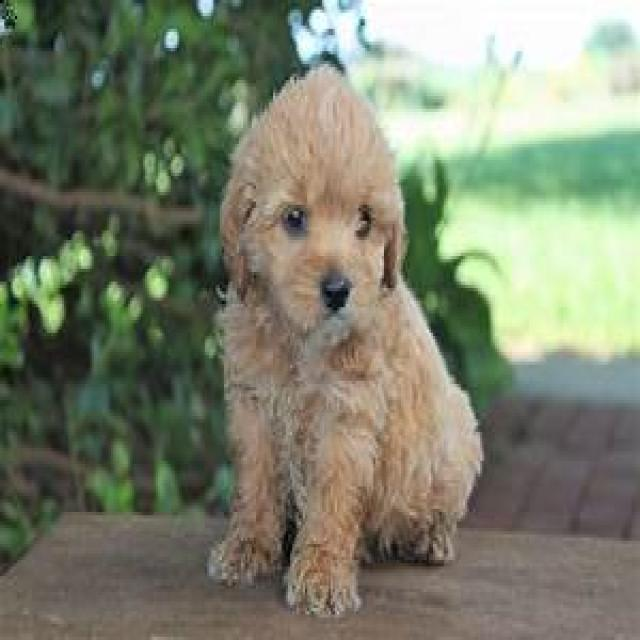KOPEK: (184, 48, 491, 621)
